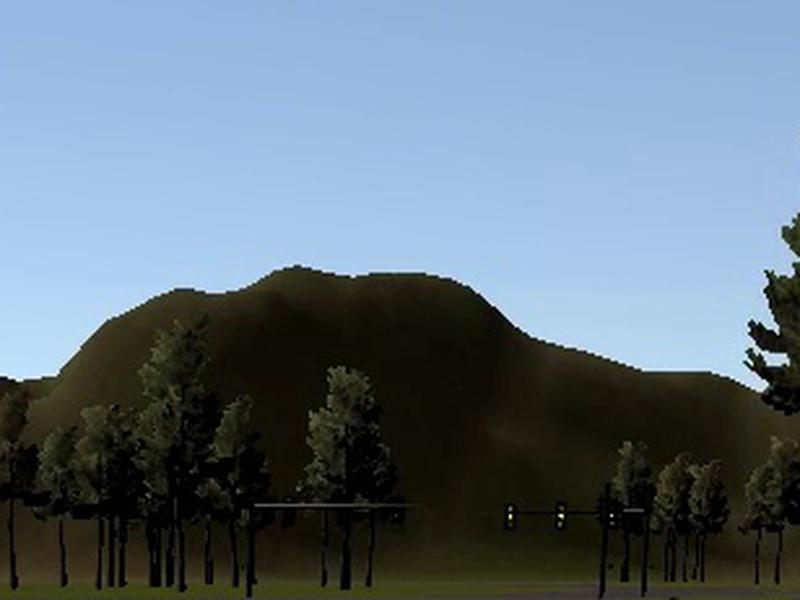Yellow: (502, 501, 515, 531), (555, 502, 565, 530)
